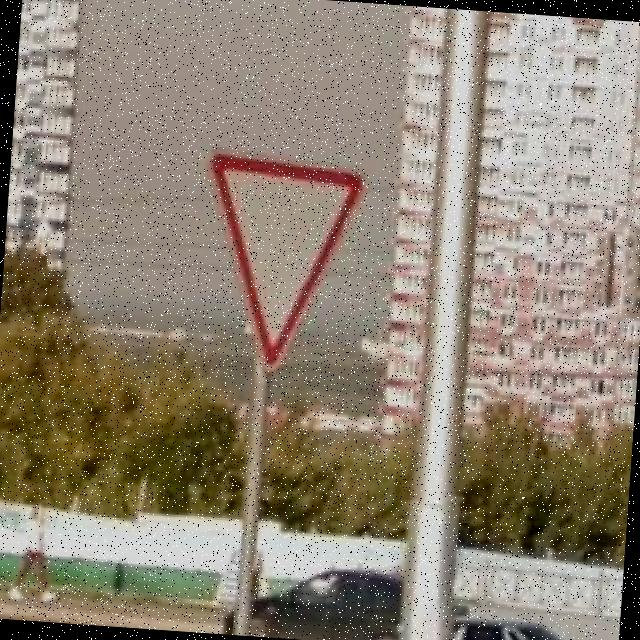Ustap pierwszenstwa: (189, 146, 368, 382)
